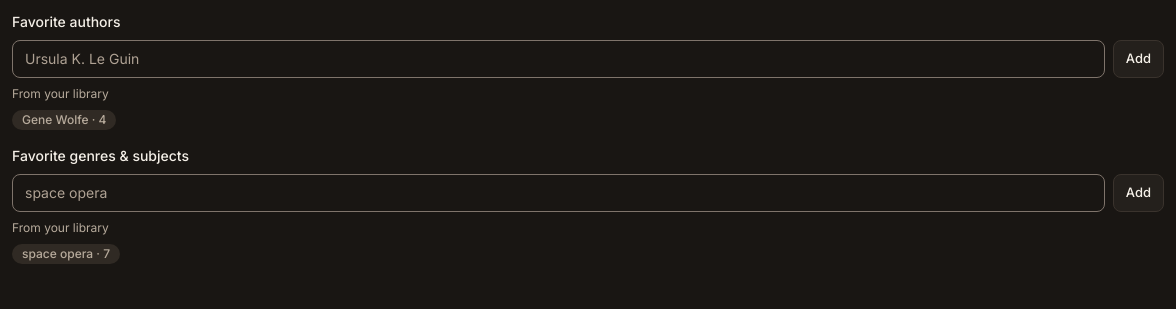
Test: refuses a subject that a broader exclusion term already covers
The image size is (1176, 309).
Step 1. Type "Space Opera" into the field labelled "Favorite genres & subjects" → (558, 193), box [12,174,1105,212]
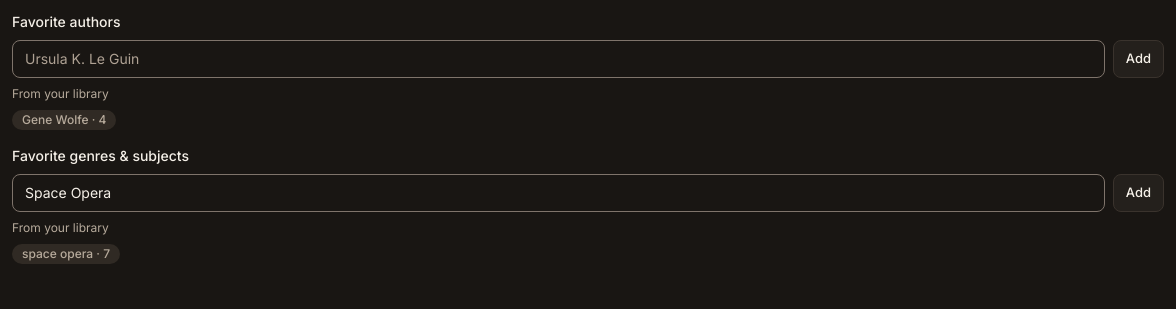
Step 2. Press Enter in the field labelled "Favorite genres & subjects", box [12,174,1105,212]
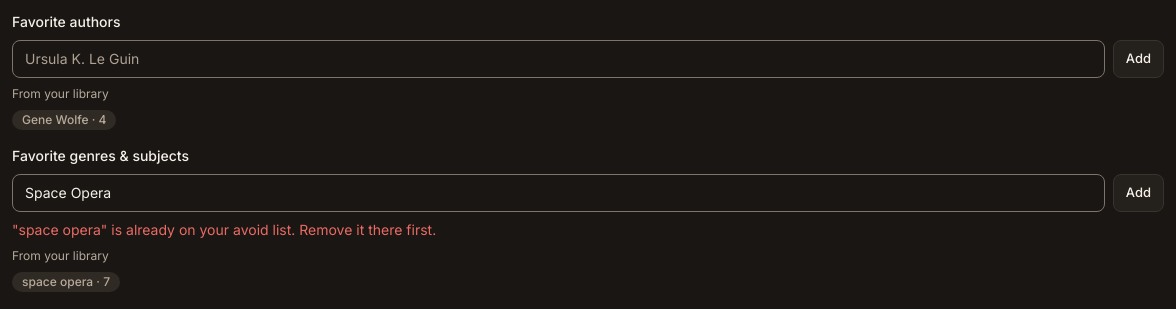
Now the text "\"space opera\" is already on your avoid list. Remove it there first." is shown, box [12,221,436,238]
